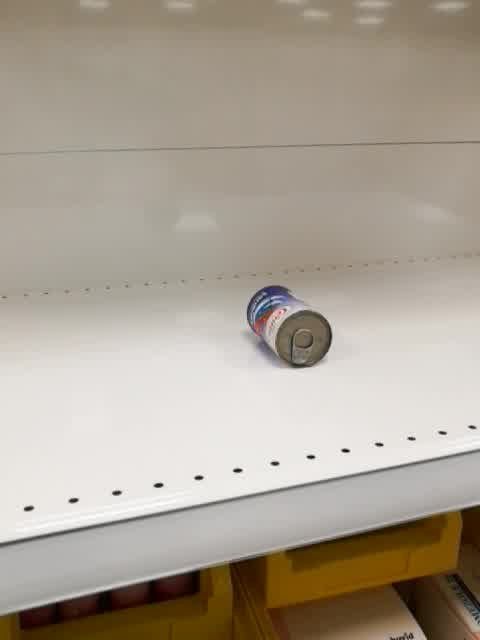sardine: (246, 284, 333, 369)
